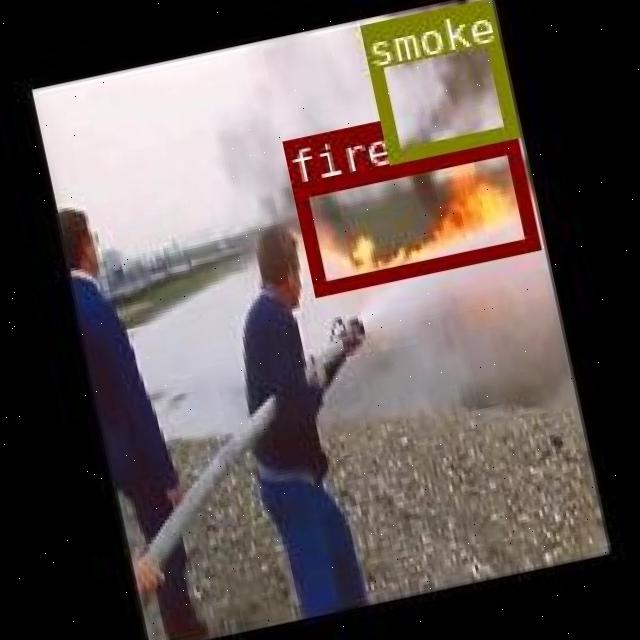fire: (290, 136, 538, 294)
smoke: (358, 0, 517, 162)
